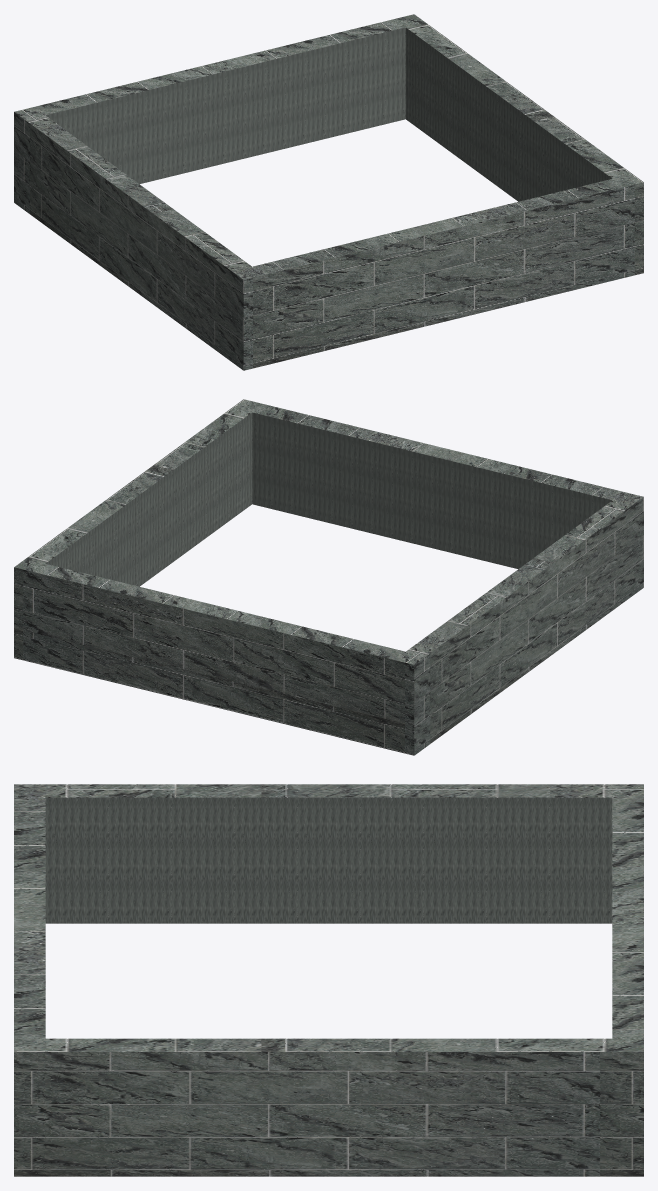
The model's file is MazeMapFrame.obj.
The picture shows the model from 3 angles, top to bottom: view 1: azimuth 30°, elevation 25°; view 2: azimuth 150°, elevation 25°; view 3: azimuth 270°, elevation 25°; orthographic projection. The views are drawn at different scales.
Visible parts, largest first — view 1: pCube3; view 2: pCube3; view 3: pCube3.
Part boxes in pixels (x1,y1,x2,y2): pCube3: [14, 14, 643, 370]; pCube3: [14, 399, 643, 755]; pCube3: [14, 784, 643, 1176].
Bounding box in the file's own units: 38.28 × 8.4 × 38.05.
1 material, 1 textured.
